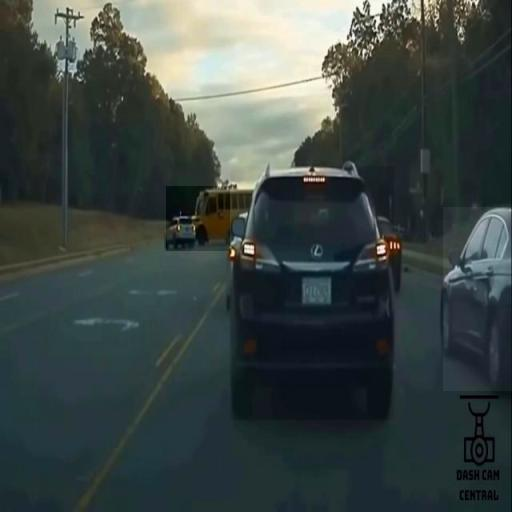小汽车: (230, 166, 394, 420), (443, 207, 512, 391)
小汽车撞小汽车: (166, 186, 254, 251)
